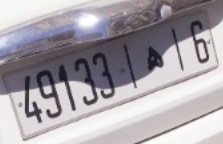1: (57, 63, 78, 112)
3: (73, 56, 98, 106), (93, 52, 116, 98)
4: (19, 74, 44, 126)
6: (190, 20, 211, 64)
9: (37, 68, 63, 116)
h: (142, 44, 165, 75)
